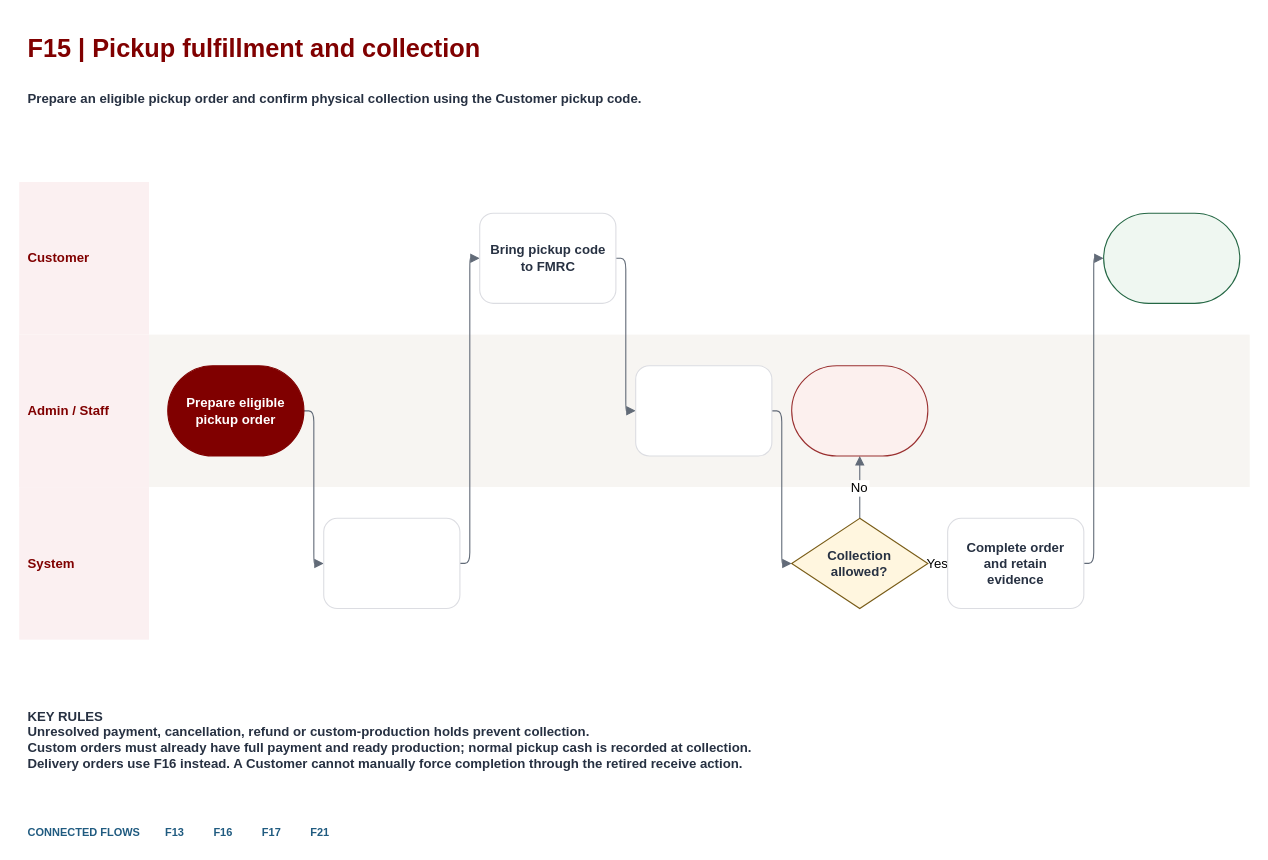
Some shapes in this 1268 by 860 pixel diagram are drawn without their labels. The box of each missing label's shape, as (x1, y1, x2, y2) in pixels:
Publish ready-for-pickup status: (323, 517, 460, 609)
Receive collected order: (1103, 212, 1240, 303)
Record cash if due; verify code: (635, 365, 772, 456)
Resolve code, payment or hold: (791, 365, 928, 456)
